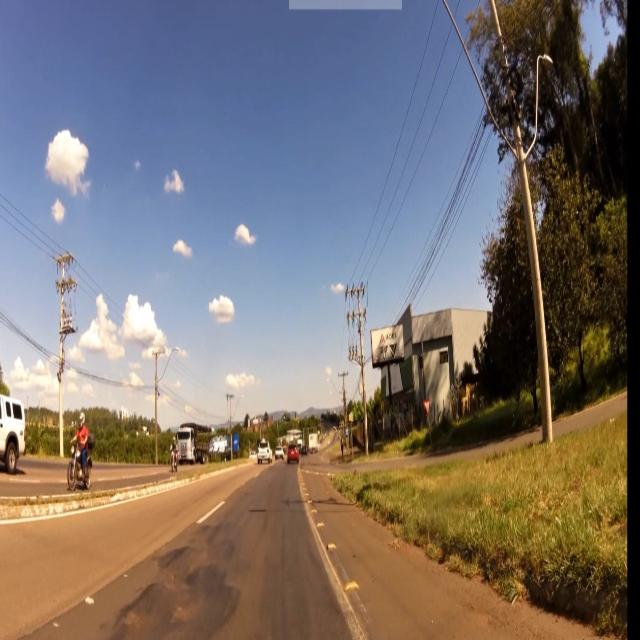R-2: (423, 399, 431, 416)
